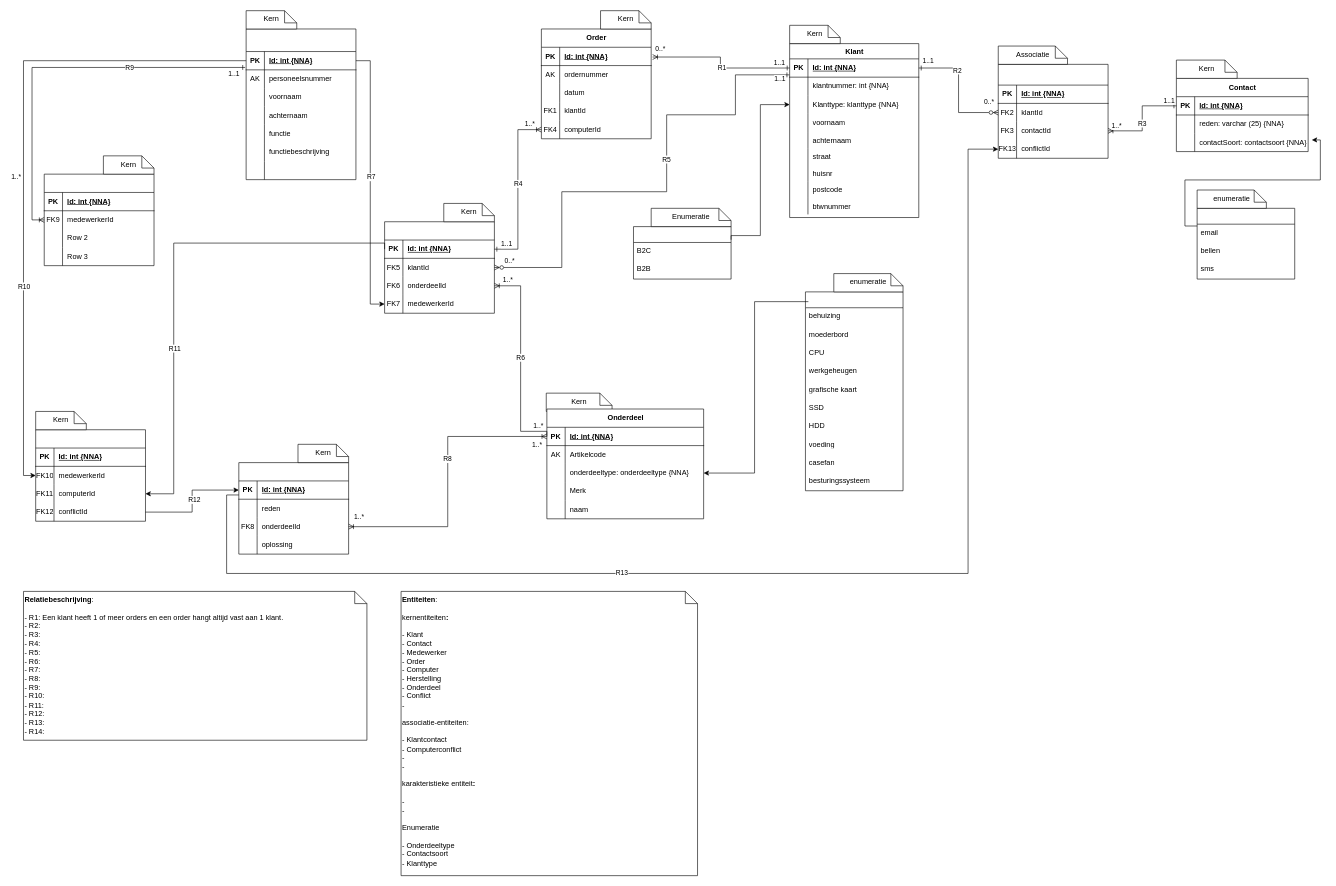
The diagram is 1336 pixels wide and 886 high, and some of its shapes have lost their labels. Each missing label, with the box of its shape:
Computer: (384, 221, 494, 313)
Conflict: (238, 462, 349, 554)
Contactsoort: (1197, 208, 1295, 279)
Controle: (44, 174, 154, 266)
Herstelling: (35, 429, 145, 521)
Klantcontact: (998, 64, 1108, 158)
Klanttype: (633, 226, 731, 279)
Medewerker: (246, 28, 356, 180)
Onderdeeltype: (805, 291, 903, 491)
